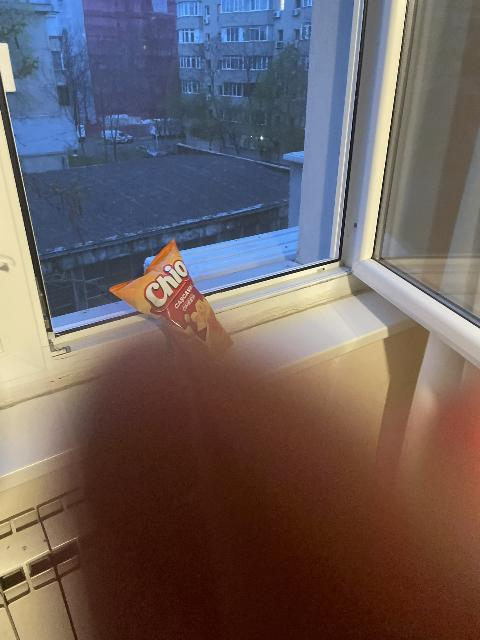Chio Cascaval 125g: (112, 237, 233, 354)
